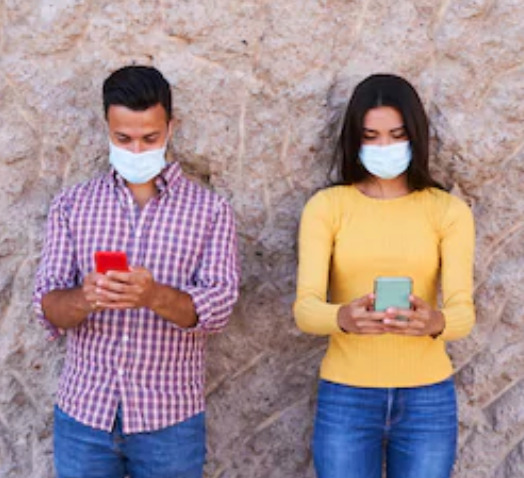Caution: (41, 63, 474, 478)
